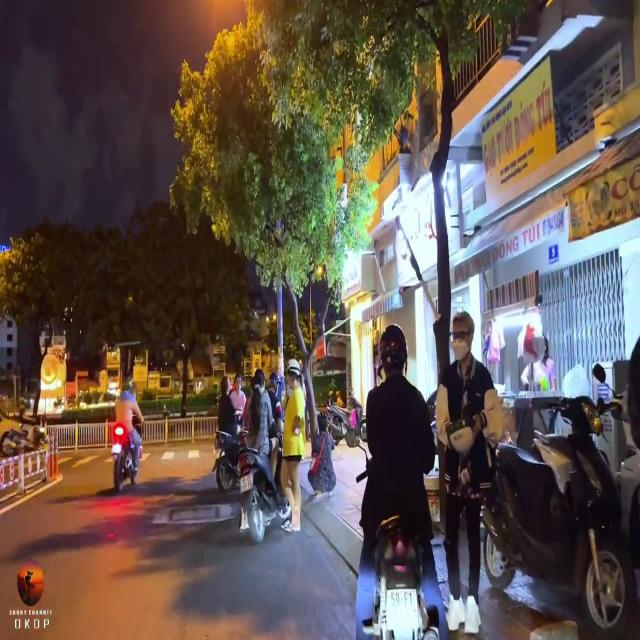bien_trang: (384, 578, 422, 635)
